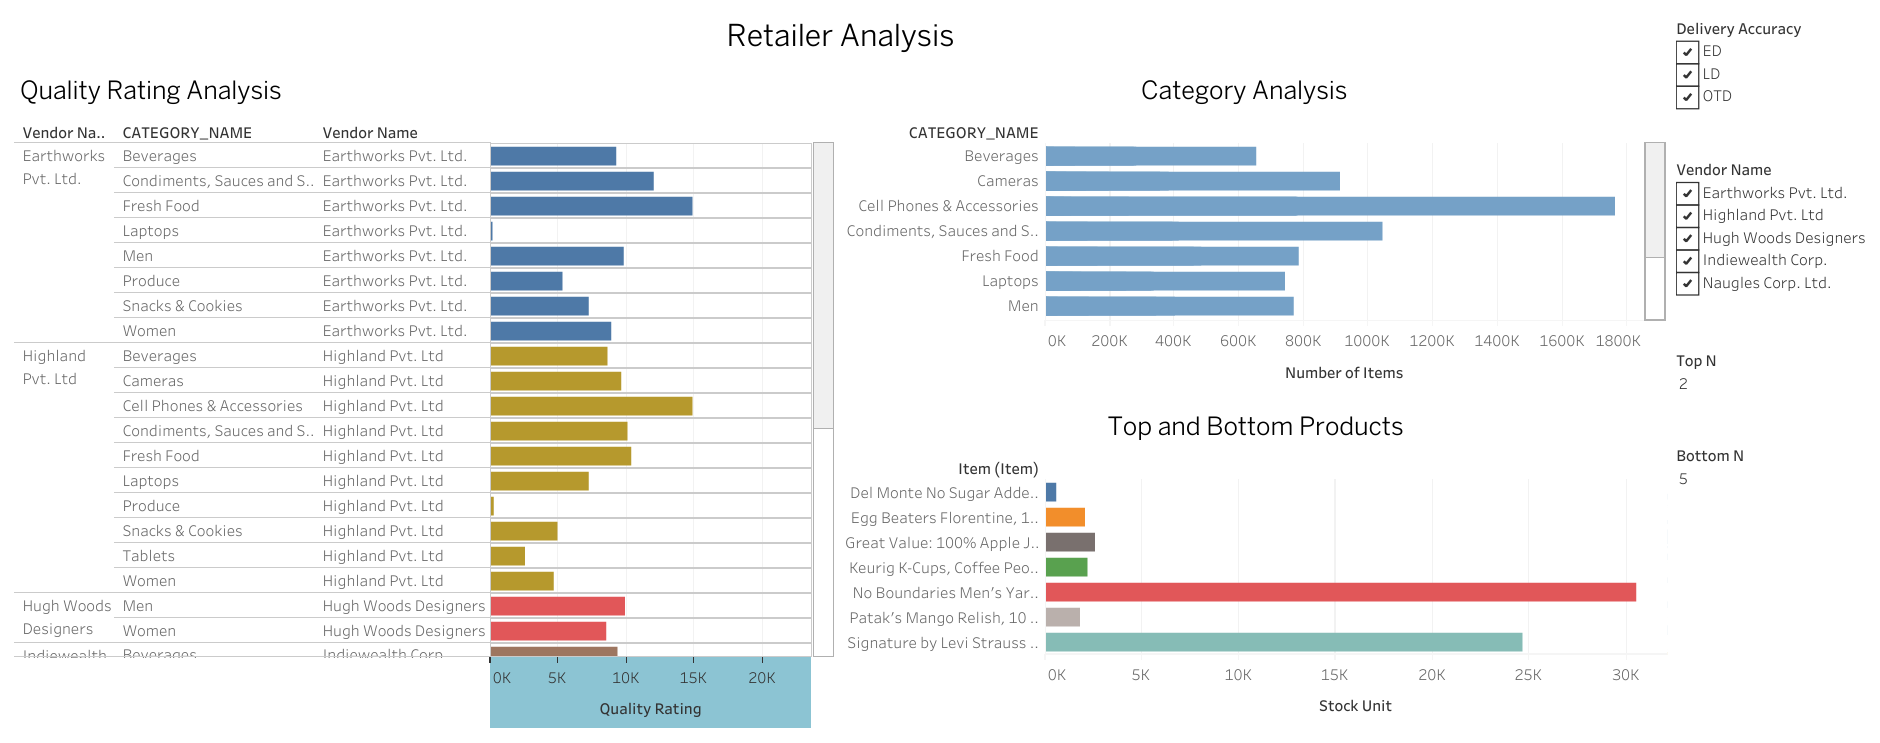

This screenshot's page, from the dashboard's own definition file:
{"tool":"tableau","page":{"name":"Retailer Analysis","canvas":[1000,1000],"units":"permille","ordinal":1},"visuals":[{"type":"title","box":[6.8,11.9,850.5,68.7]},{"type":"filter","title":"Quality Rating Analysis","param":"[federated.0stq3pm0vzlnae1dms6wo1qqt639].[none:Delivery_Accuracy:nk]","box":[857.3,11.9,135.9,191]},{"type":"worksheet","title":"Quality Rating Analysis","mark":"Automatic","rows":["Vendor_Name","CATEGORY_NAME","Vendor_Name"],"cols":["Quality_Rating"],"box":[6.8,80.6,425.2,907.5]},{"type":"worksheet","title":"Category Analysis1","mark":"Automatic","rows":["CATEGORY_NAME"],"box":[432,80.6,425.2,453.7]},{"type":"filter","title":"Quality Rating Analysis","param":"[federated.0stq3pm0vzlnae1dms6wo1qqt639].[none:Vendor_Name:nk]","box":[857.3,203,135.9,259.7]},{"type":"parameter","param":"[Parameters].[Parameter 1]","box":[857.3,462.7,135.9,117.9]},{"type":"worksheet","title":"Top and Bottom Products","mark":"Automatic","rows":["ITEM"],"cols":["Stock_Unit"],"box":[432,534.3,425.2,453.7]},{"type":"parameter","param":"[Parameters].[Parameter 2]","box":[857.3,580.6,135.9,117.9]}]}

Visuals, with their boxes on the dashboard's canvas, which has no fixed pixel size, in thousandths of its width and height (x1, y1, x2, y2). These are canvas units, not pixel positions in the 1880x743 screenshot, which may show the page scaled, cropped or inside an application window:
title: [left=7, top=12, right=857, bottom=81]
"Quality Rating Analysis" filter: [left=857, top=12, right=993, bottom=203]
"Quality Rating Analysis" worksheet: [left=7, top=81, right=432, bottom=988]
"Category Analysis1" worksheet: [left=432, top=81, right=857, bottom=534]
"Quality Rating Analysis" filter: [left=857, top=203, right=993, bottom=463]
parameter: [left=857, top=463, right=993, bottom=581]
"Top and Bottom Products" worksheet: [left=432, top=534, right=857, bottom=988]
parameter: [left=857, top=581, right=993, bottom=698]
